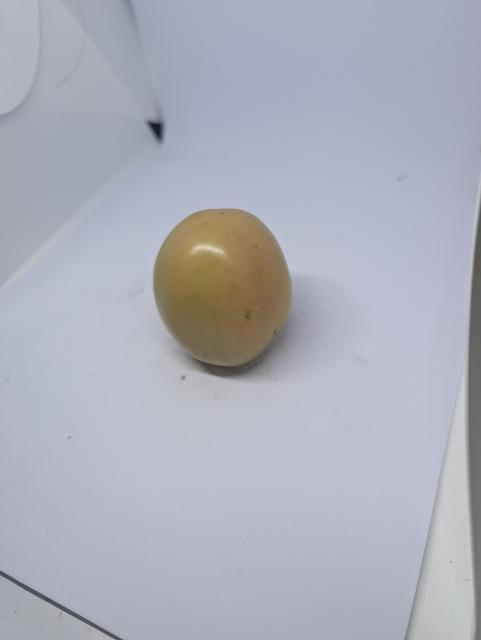breaker: (153, 208, 292, 367)
